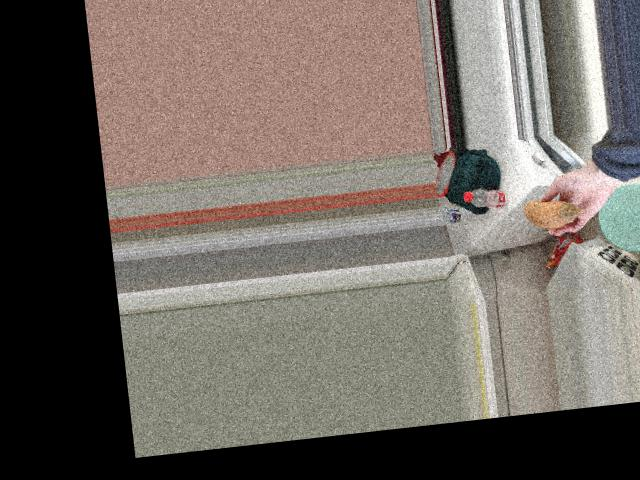sweet_potato: (518, 192, 587, 227)
